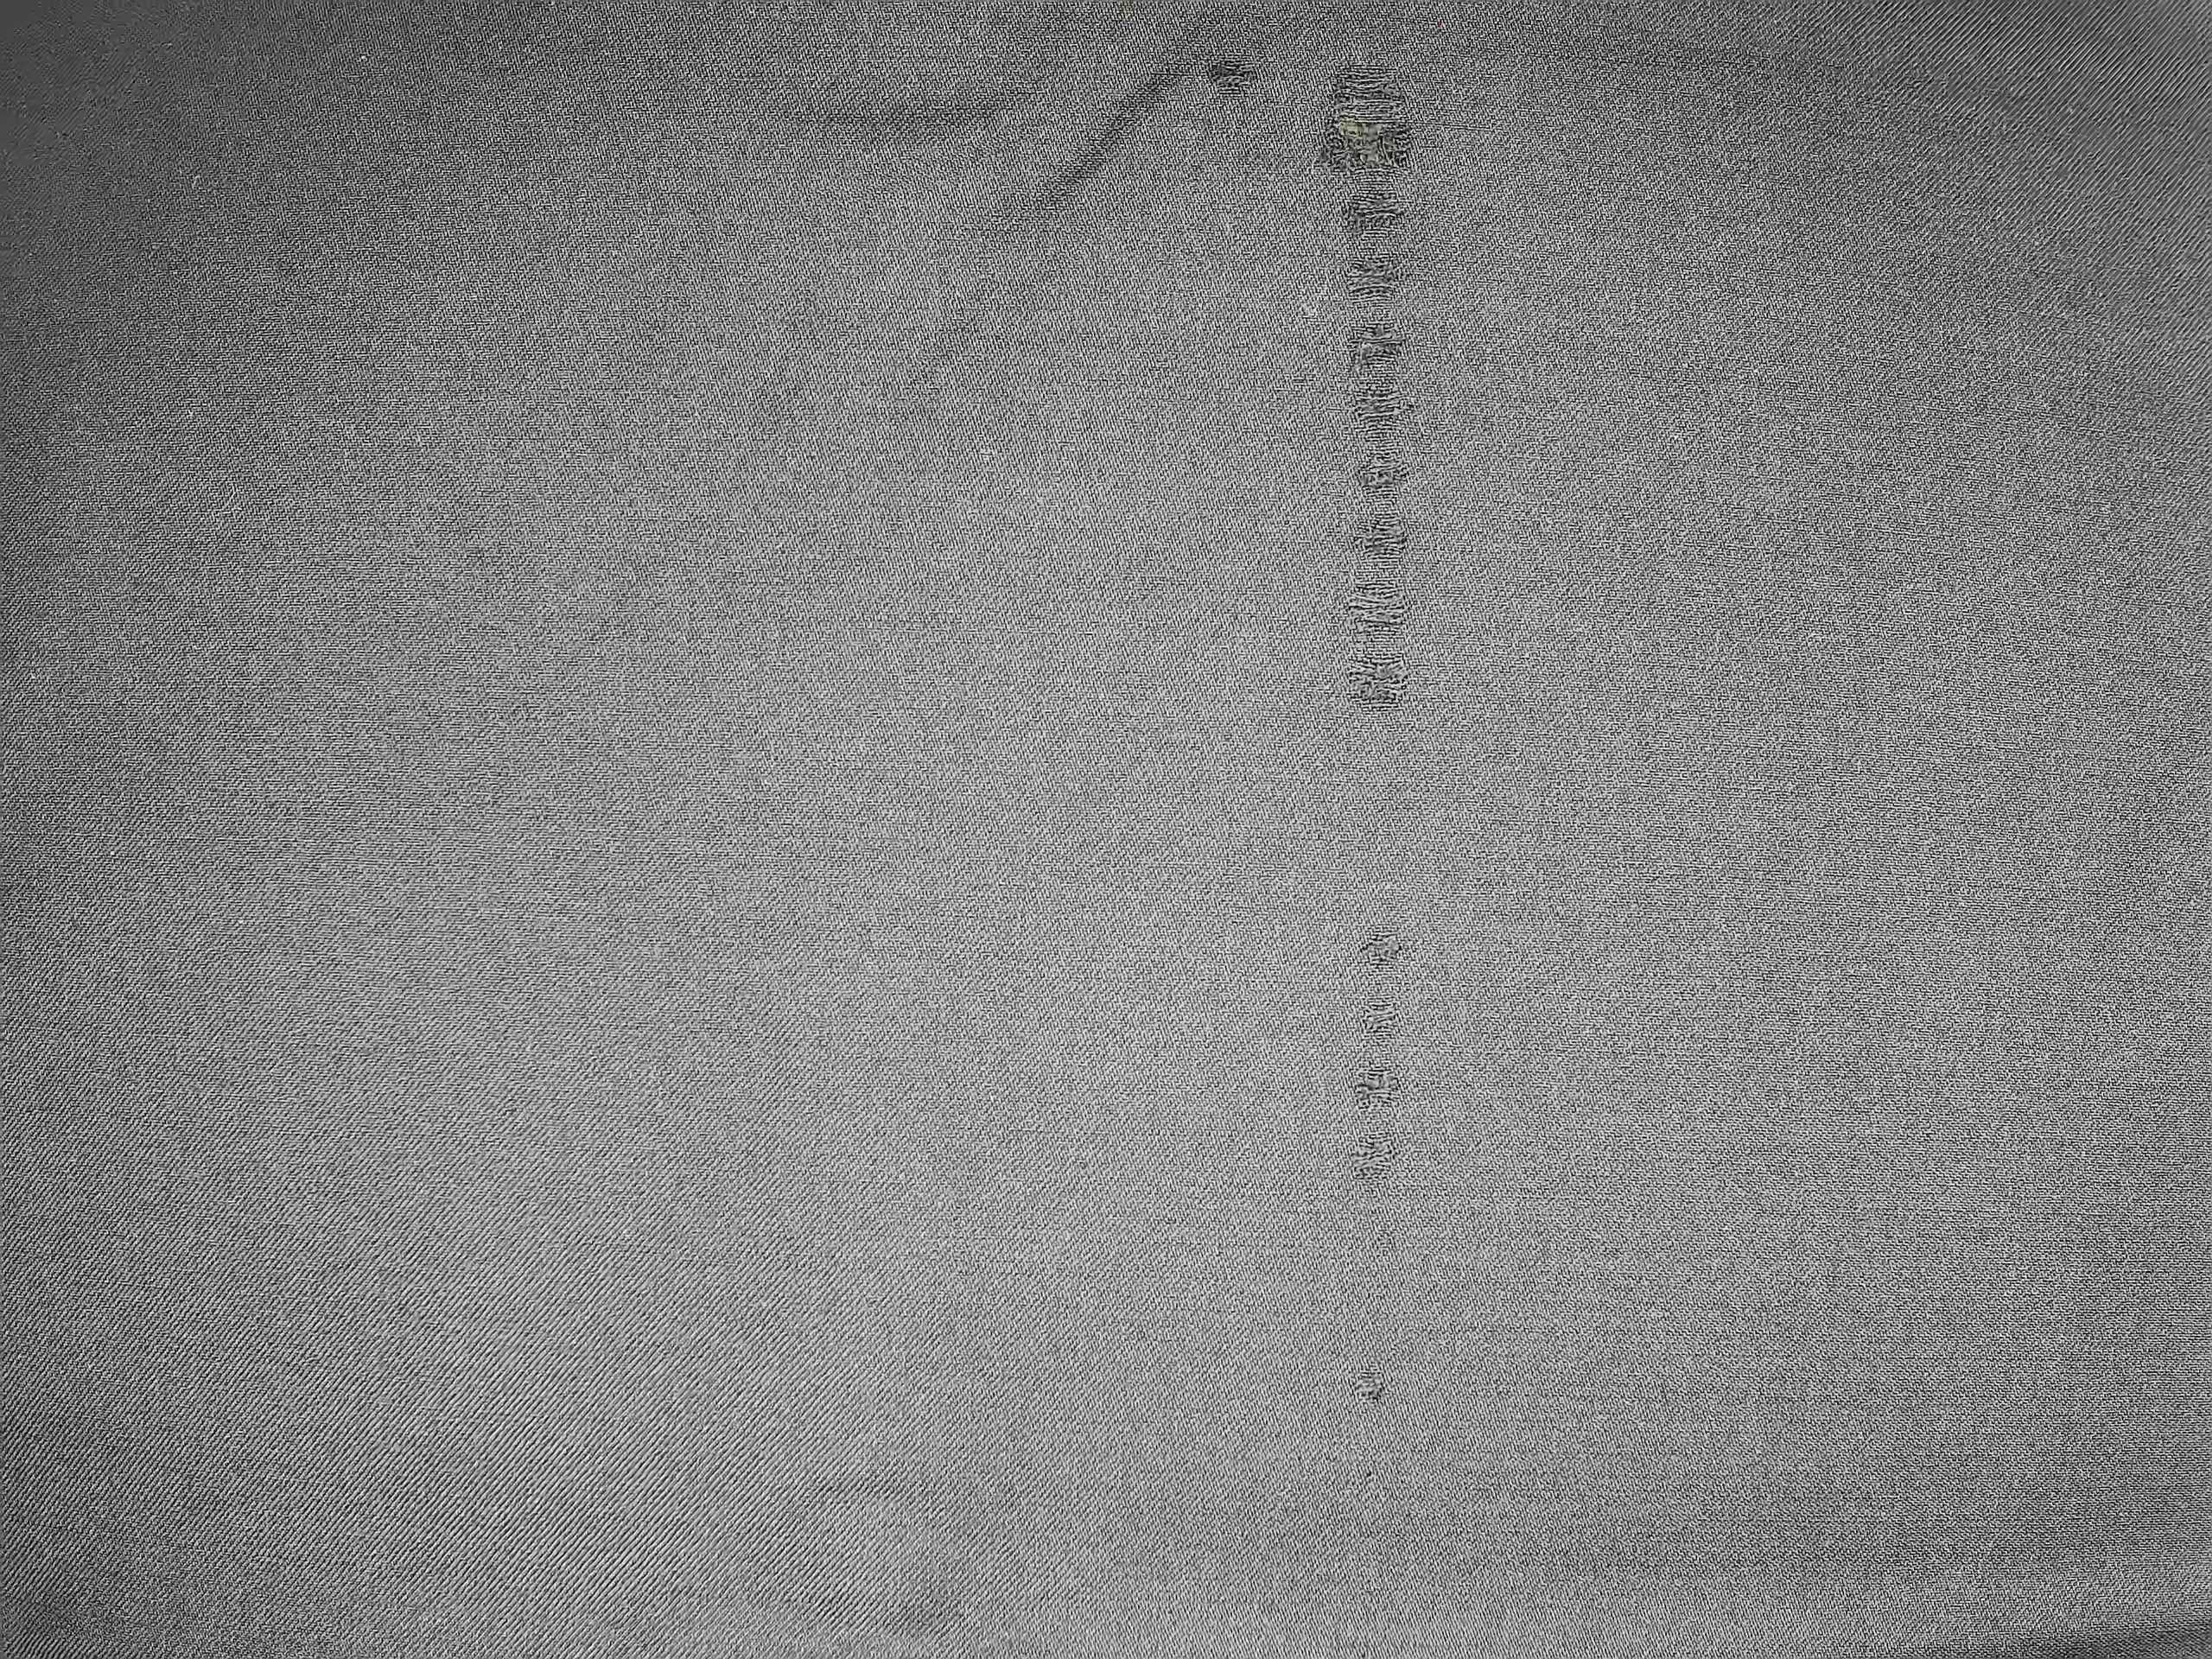rubbing-hole: (1306, 47, 1432, 725), (1341, 915, 1421, 1192), (1198, 42, 1266, 110), (1345, 1352, 1400, 1412)
